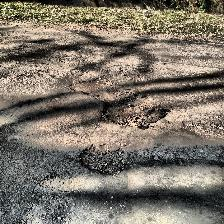pothole: (68, 73, 162, 127), (78, 142, 132, 176)
